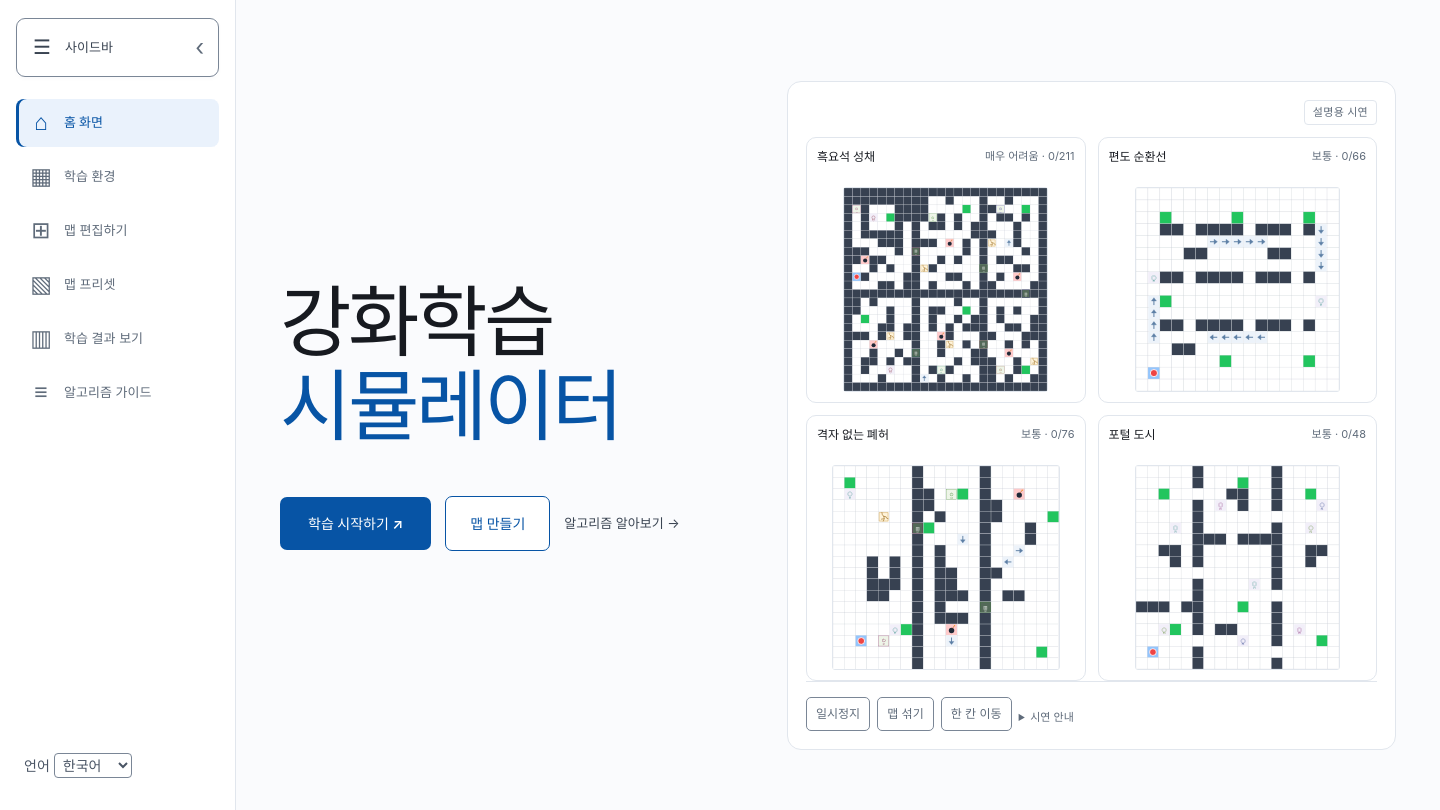
Topbar and breadcrumb › shows no breadcrumb on home but keeps the menu button, and keeps breadcrumbs elsewhere
Expected: the element with class "topbar" does not show "Workspace"
Click the button with test id "nav-guide".
click(118, 392)  # box [16,368,219,416]
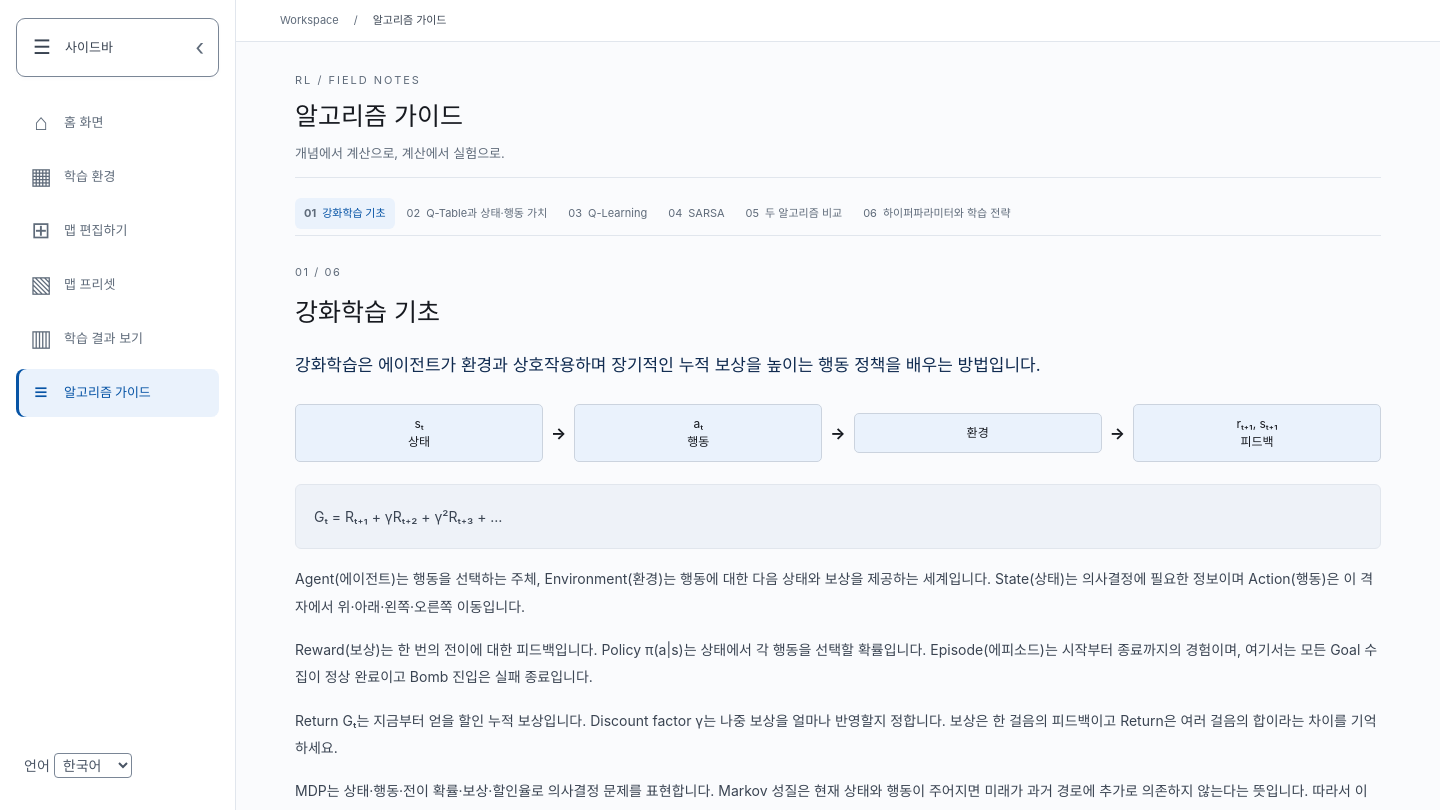
Now the header with class "topbar" shows "Workspace", box [280,13,339,27]
Now the header with class "topbar" shows "알고리즘 가이드", box [373,13,446,27]
